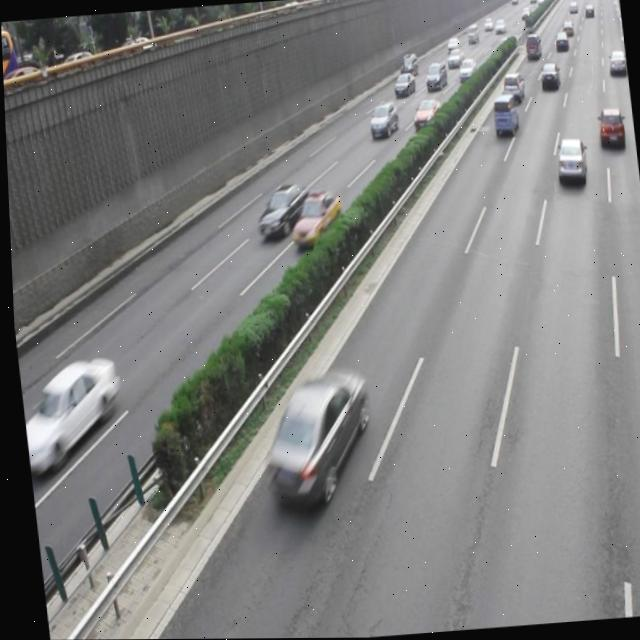car: (250, 367, 372, 508), (19, 354, 121, 468), (284, 190, 342, 249), (251, 182, 309, 241), (551, 137, 585, 190), (593, 106, 622, 152)
